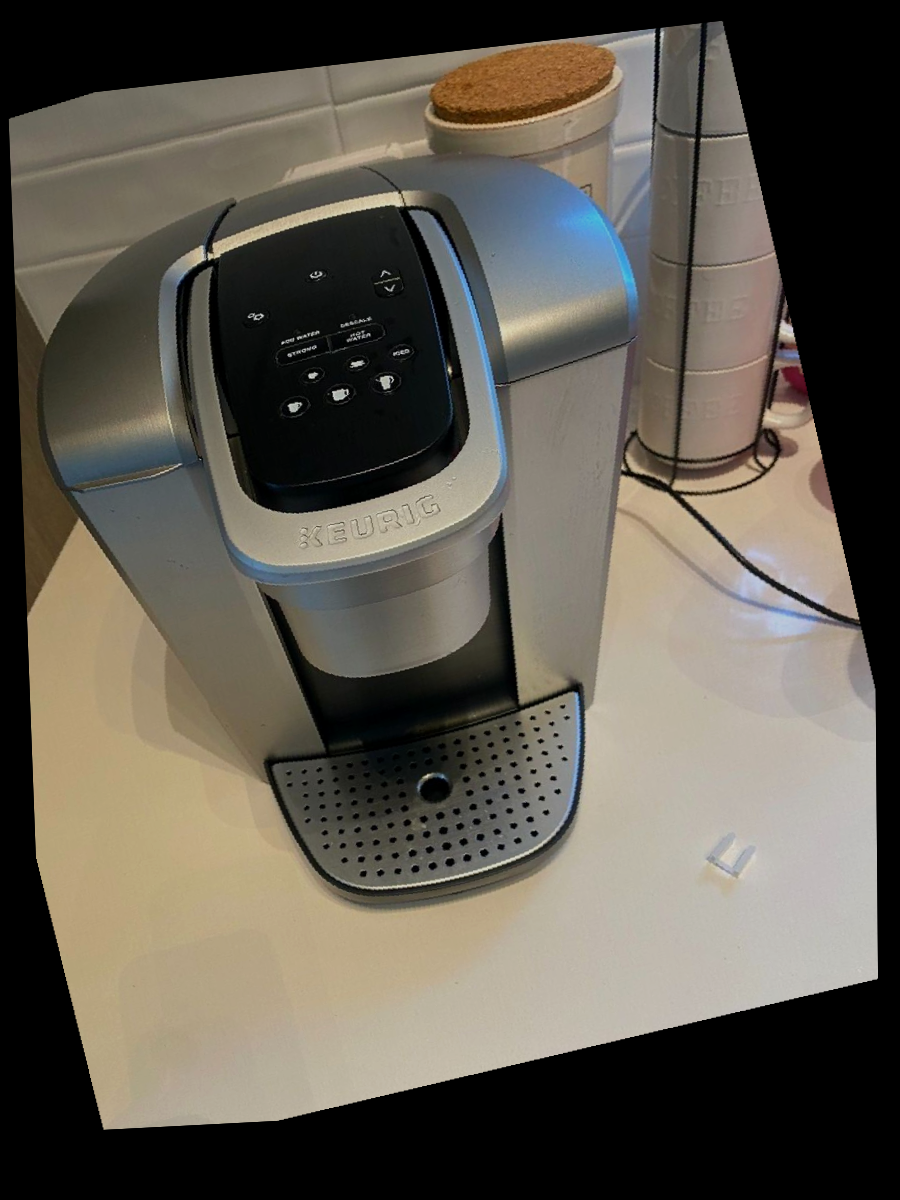10oz: (324, 384, 358, 407)
12oz: (369, 371, 402, 394)
4oz: (300, 366, 327, 385)
6oz: (344, 354, 370, 373)
8oz: (279, 395, 312, 418)
add_water: (272, 320, 325, 349)
descale: (325, 305, 378, 334)
hot: (326, 320, 384, 355)
iced: (389, 343, 416, 362)
power: (305, 267, 330, 284)
strong: (270, 337, 323, 366)
